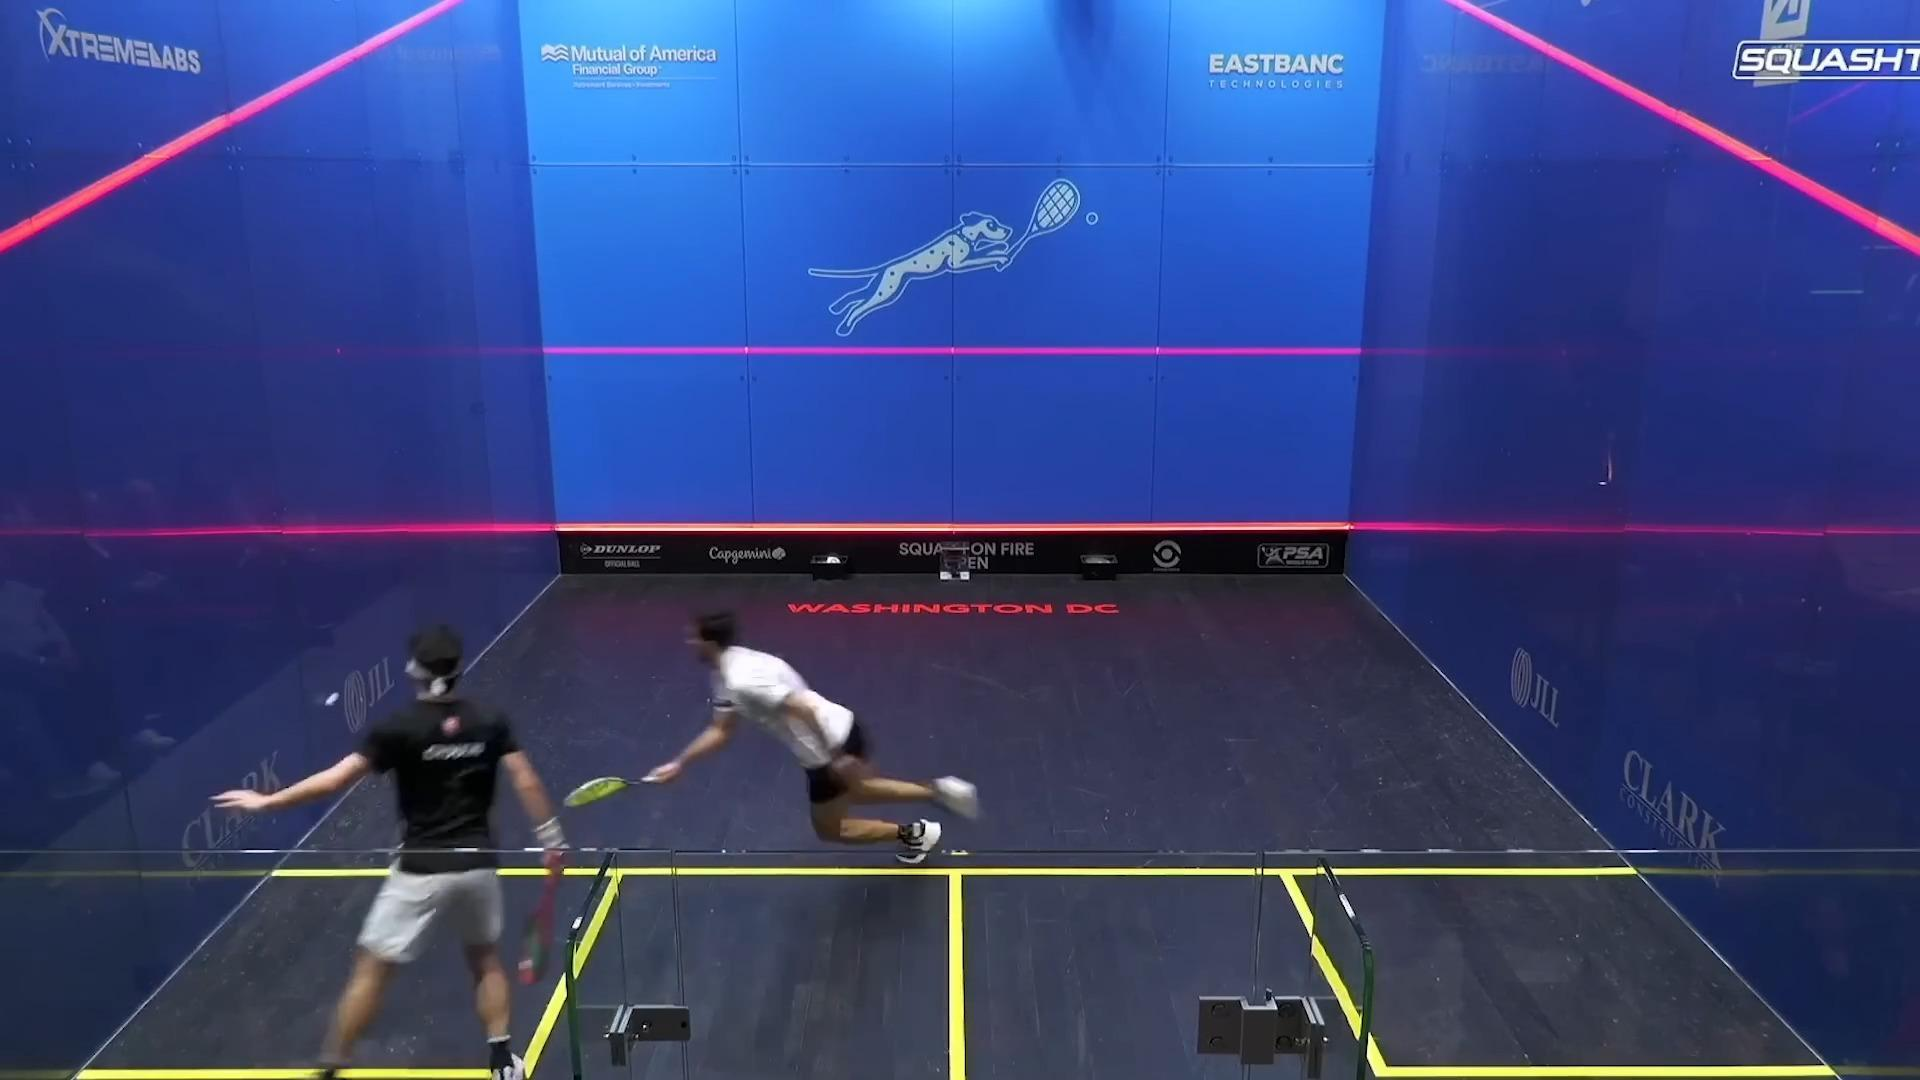Squash-Ball: (314, 683, 356, 720)
